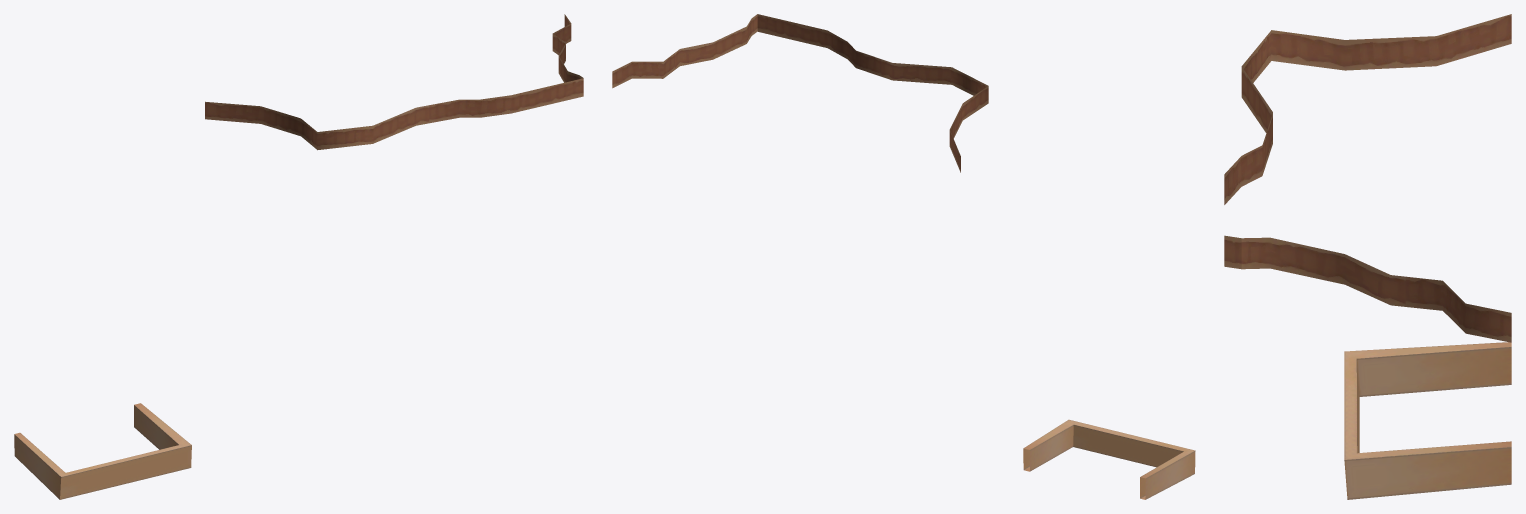
The model's file is house_01_0_cf6c20c2__ZombiesII_depot_diffuse_09_27748207_c1f257.obj.
3 views of the same model, side by side, from view 1: azimuth 30°, elevation 25°; view 2: azimuth 150°, elevation 25°; view 3: azimuth 270°, elevation 25° (orthographic). The views are drawn at different scales.
Size of the model in its own units: 28.38 by 16.18 by 7.5.
Materials: 1 (1 with a texture image).
